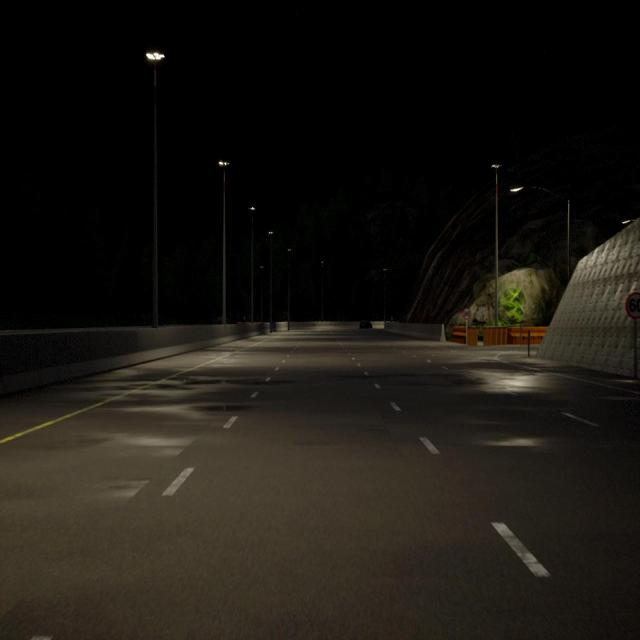Traffic_Signs: (625, 292, 640, 319), (463, 308, 471, 320)
Vehicle: (360, 319, 372, 329)
